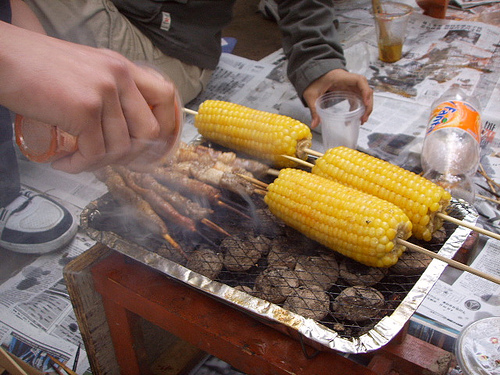corn: (261, 167, 413, 269), (315, 145, 451, 240), (195, 97, 314, 167)
